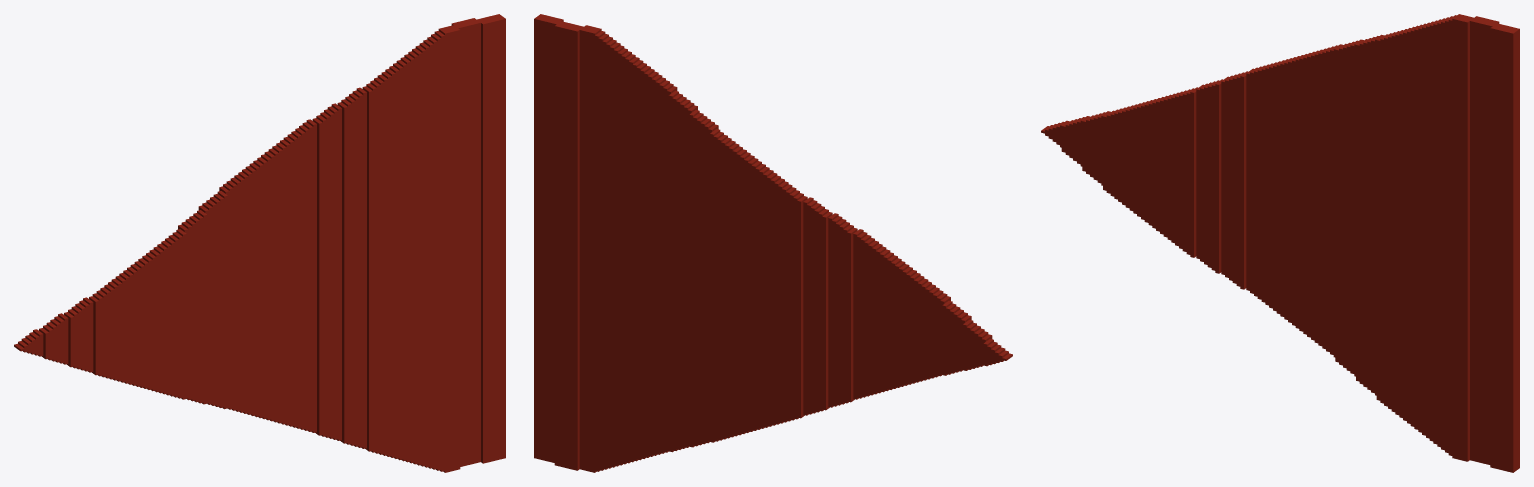
The model's file is flag_full5-0.obj.
3 renders of one model, left to right at view 1: azimuth 30°, elevation 25°; view 2: azimuth 150°, elevation 25°; view 3: azimuth 330°, elevation 25°, orthographic.
Bounding box in the file's own units: 25.2 × 22.1 × 1.2.
1 material, 1 textured.
